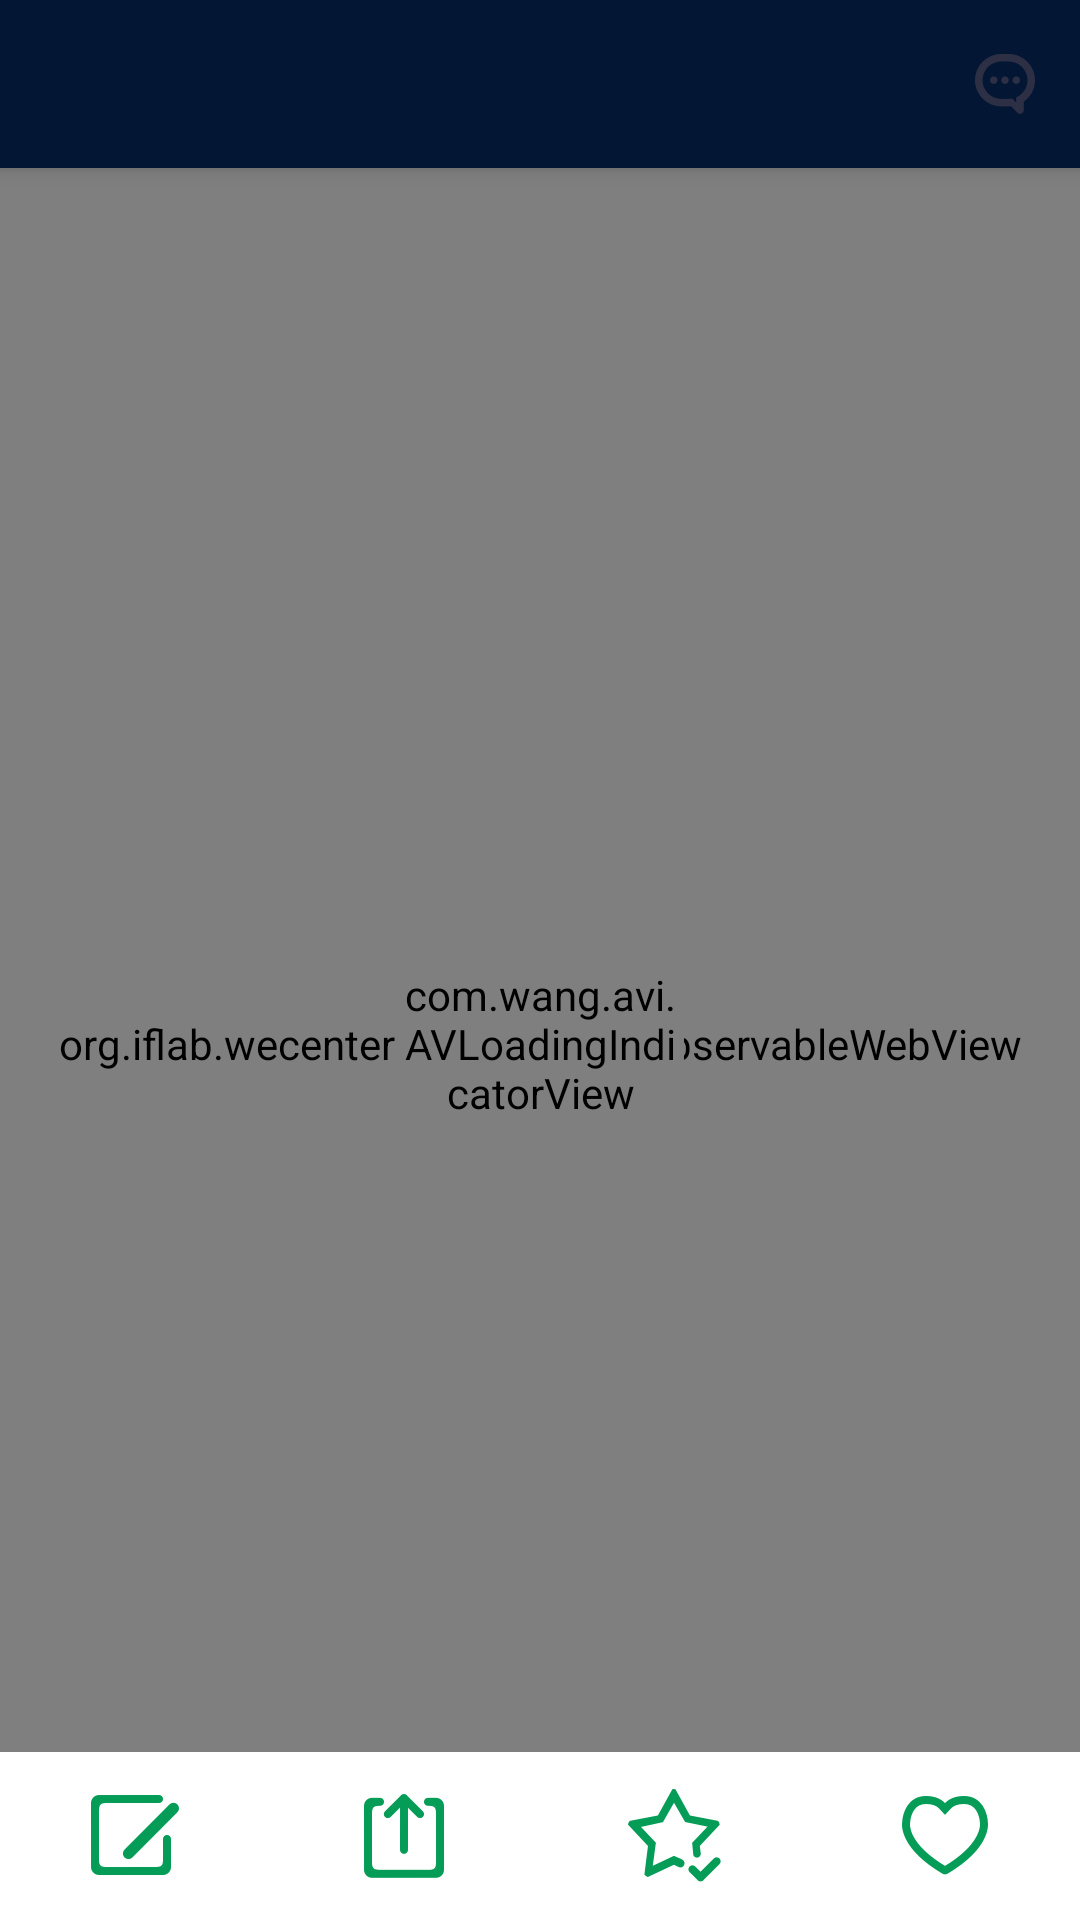

Named icons in this screenshot (1080x1920) and their bounding boxes, {"x1": x1, "y1": y1, "x2": x2, "y2": y2}:
favorite: {"x1": 628, "y1": 1789, "x2": 721, "y2": 1882}
like: {"x1": 902, "y1": 1796, "x2": 988, "y2": 1875}
share: {"x1": 364, "y1": 1794, "x2": 444, "y2": 1878}
